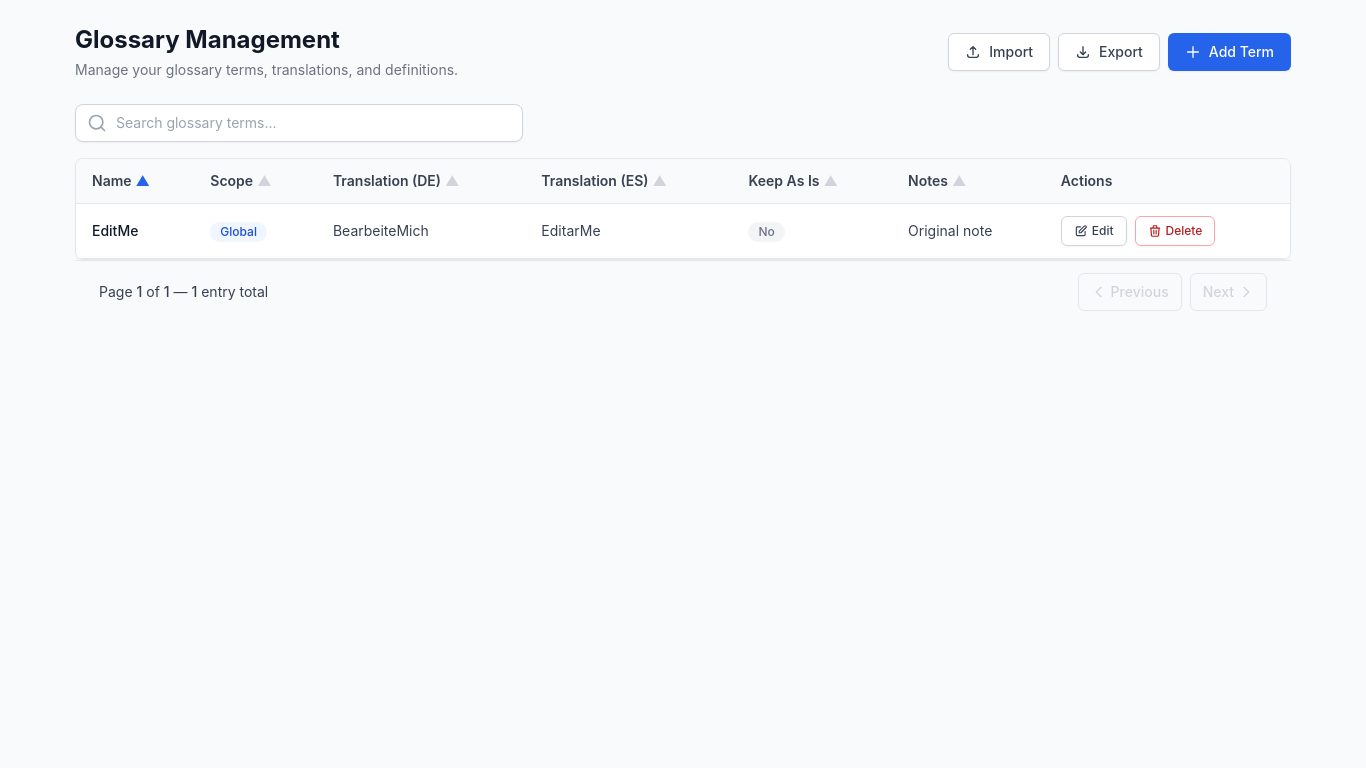
Test: App › editing a term › opens the edit modal with pre-populated data
This screenshot has width=1366, height=768.
Check: the text "EditMe" is shown, box [76, 204, 194, 258]
Click the button with aria-label "edit term editme".
click(1094, 231)  # box [1061, 216, 1127, 246]
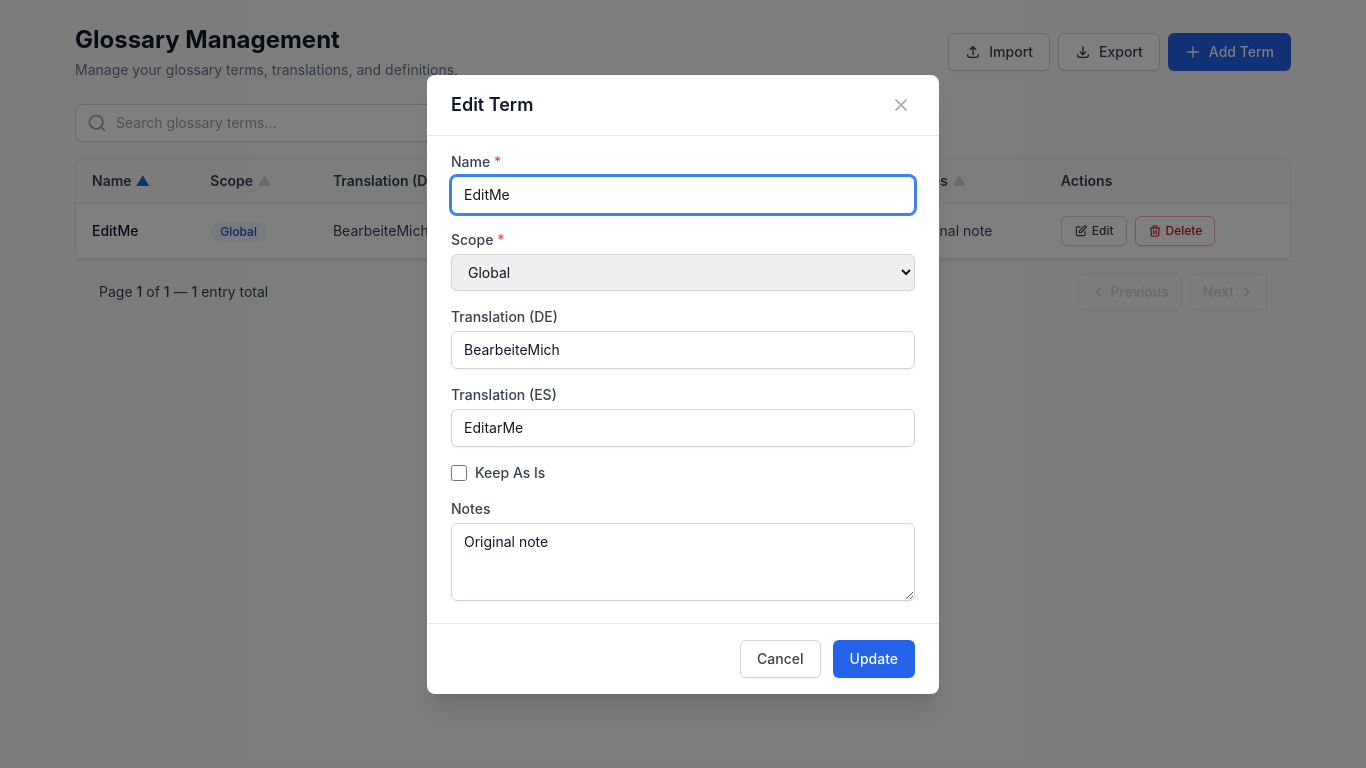
Check: the dialog is shown
Check: the heading "Edit Term" is shown, box [451, 90, 533, 118]
Check: the field labelled "Name *" holds "EditMe", box [451, 176, 915, 214]
